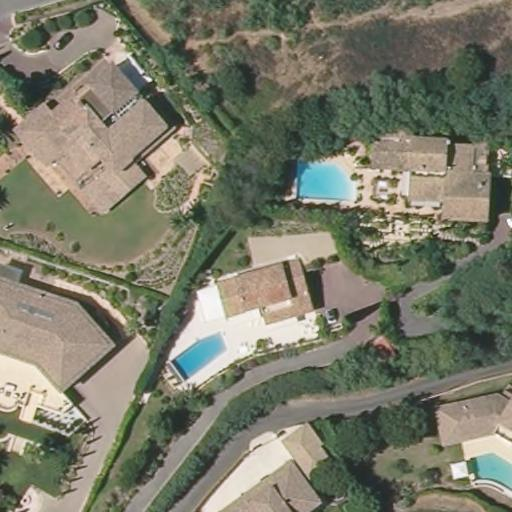pool: (169, 328, 228, 387), (290, 156, 358, 204), (464, 450, 511, 493)
